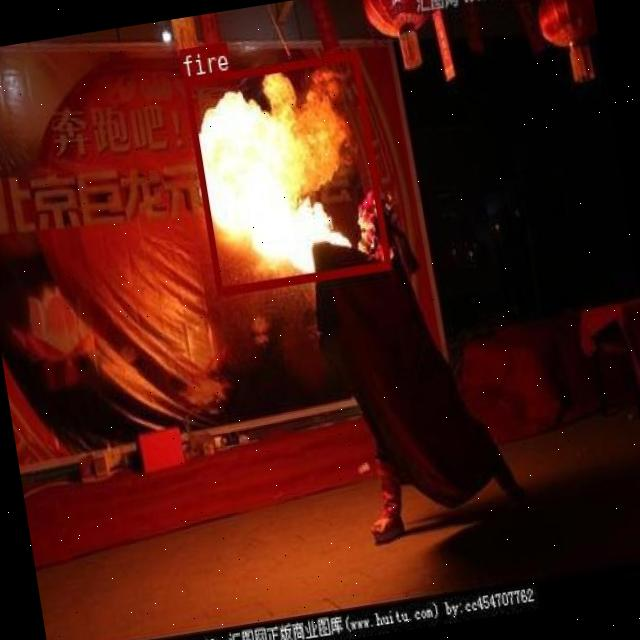fire: (183, 50, 390, 294)
